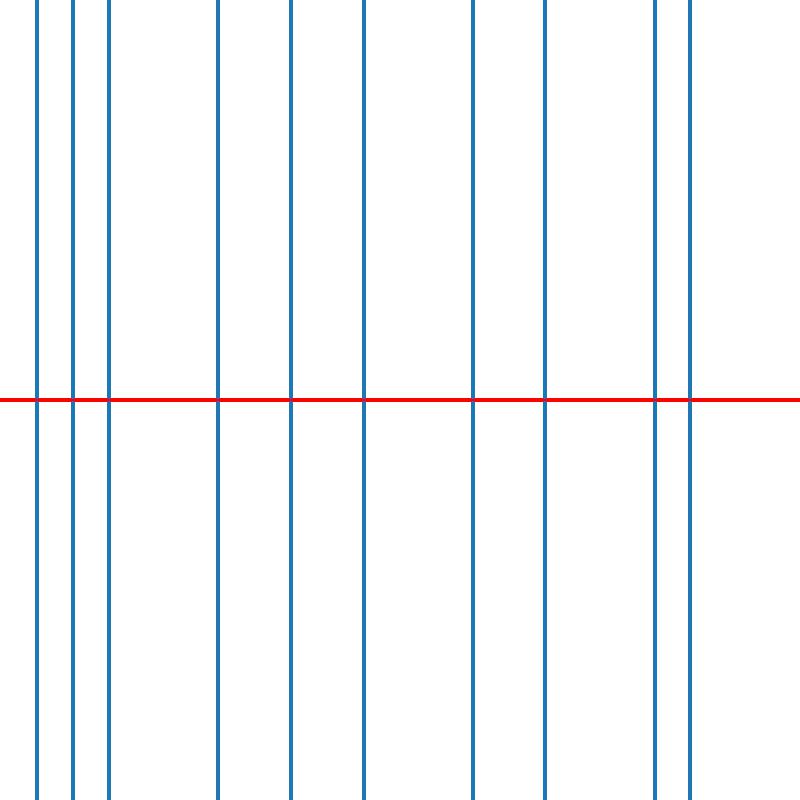root: (650, 396, 658, 404), (32, 396, 40, 404), (541, 396, 549, 404), (360, 396, 367, 404), (69, 396, 76, 404), (214, 396, 221, 404), (469, 396, 476, 404), (287, 396, 294, 404), (687, 396, 694, 404), (105, 396, 112, 404)
